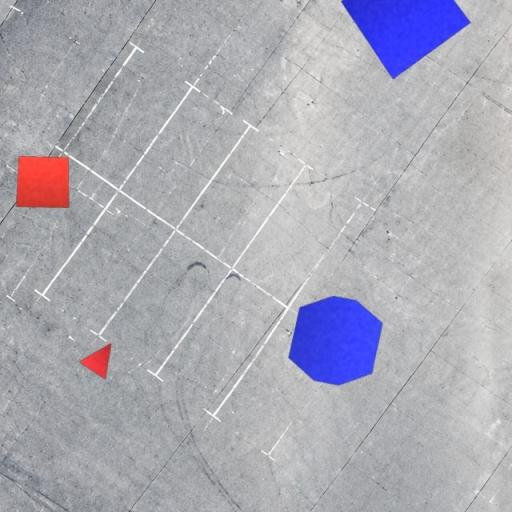BLUE_SQUARE: (341, 0, 472, 80)
RED_SQUARE: (15, 155, 70, 209)
